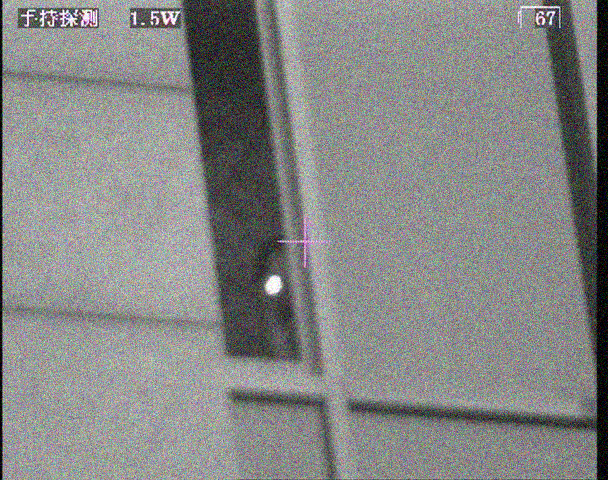my: (263, 272, 283, 297)
